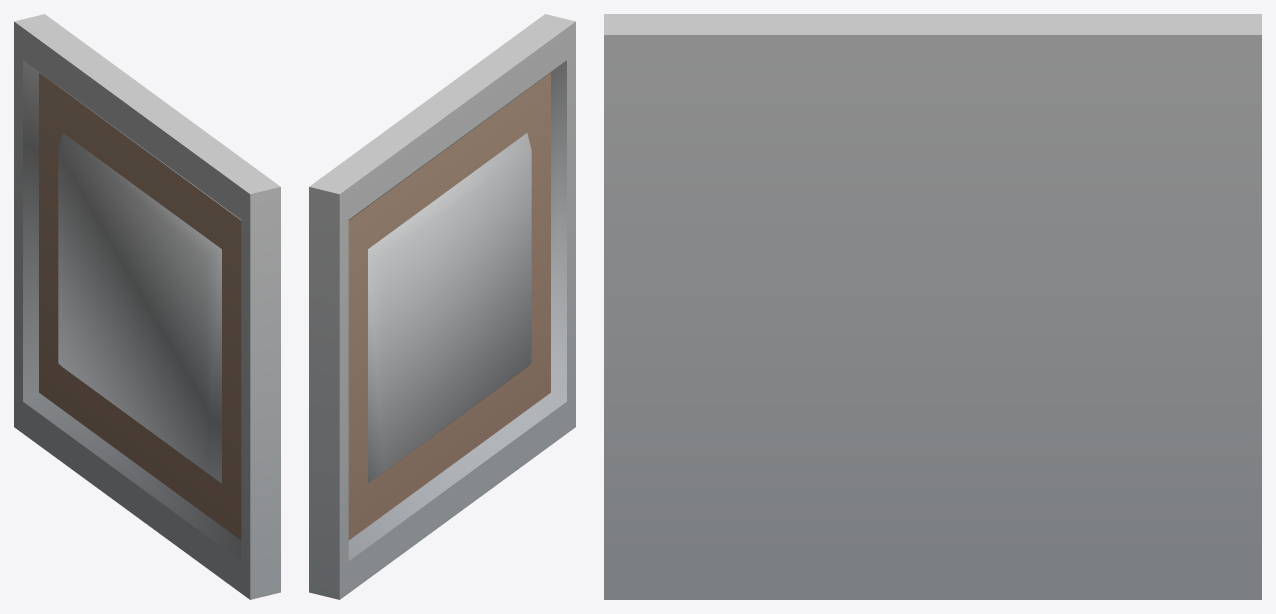
Rendered from paneling-a (%wall).glb.
The picture shows the model from 3 angles, left to right: view 1: azimuth 30°, elevation 25°; view 2: azimuth 150°, elevation 25°; view 3: azimuth 270°, elevation 25°; orthographic projection. The views are drawn at different scales.
Visible parts, largest first — view 1: paneling-a (%wall); view 2: paneling-a (%wall); view 3: paneling-a (%wall).
Part boxes in pixels (x1=…): paneling-a (%wall): x1=14, y1=14, x2=280, y2=599; paneling-a (%wall): x1=309, y1=14, x2=575, y2=599; paneling-a (%wall): x1=604, y1=14, x2=1261, y2=599.
Bounding box in the file's own units: 0.075 × 0.9479 × 1.
